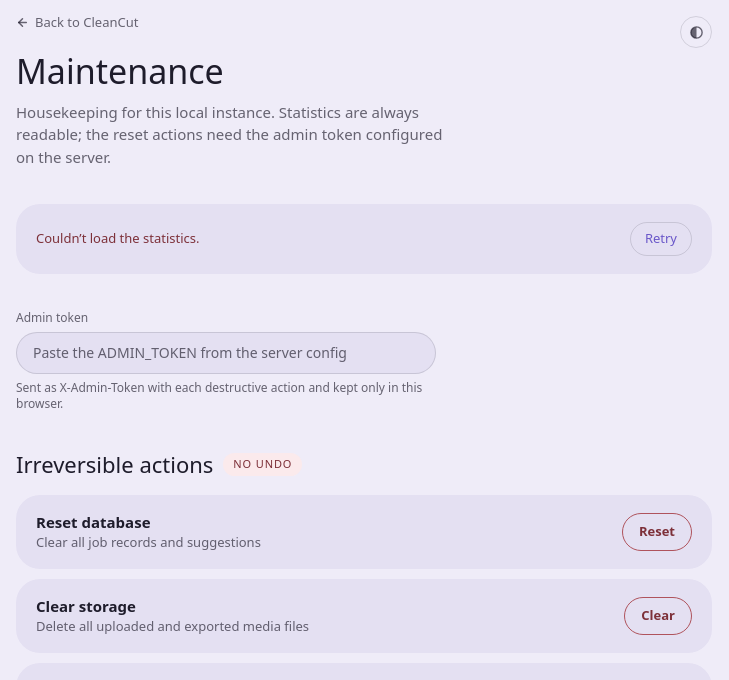
Test: stats › offers a retry when the stats request fails, and the wipes stay available
The width and height of the screenshot is (729, 680).
Expected: the password field labelled "Admin token" is shown, [16, 332, 436, 374]
Click the button "Retry": (661, 239) [630, 222, 692, 256]
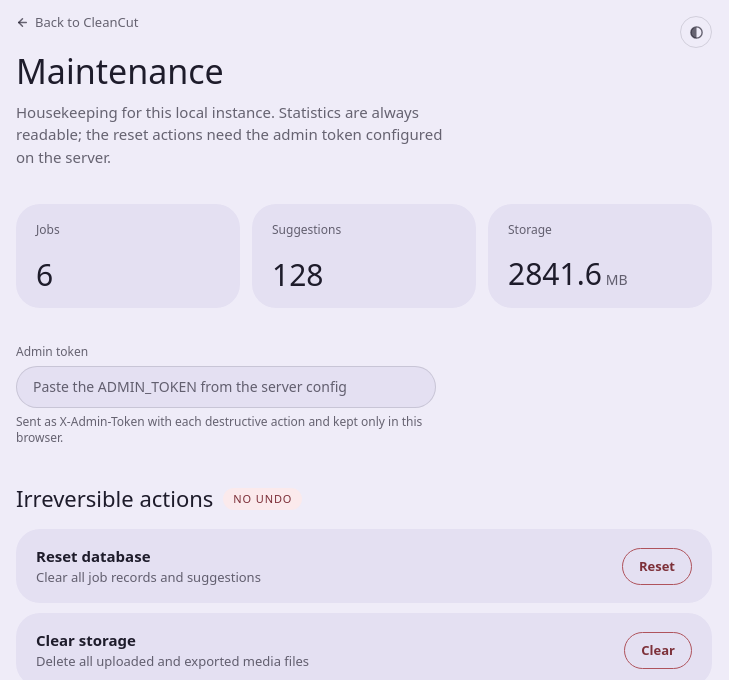
Expected: the text "128" is shown, [272, 254, 324, 295]
